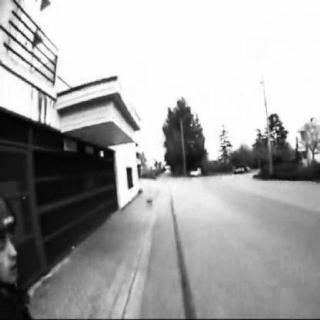other: (18, 138, 110, 248), (54, 100, 134, 147), (137, 108, 171, 206)
